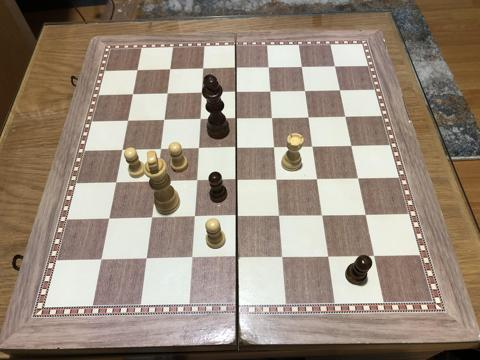xcorner: (134, 64, 147, 76), (336, 85, 348, 98), (269, 112, 281, 125), (124, 114, 137, 126), (271, 141, 283, 154), (195, 142, 207, 155), (353, 173, 366, 185), (318, 209, 330, 222), (324, 250, 336, 263), (278, 251, 291, 263), (331, 62, 343, 74), (298, 62, 310, 74), (265, 63, 277, 75), (233, 63, 245, 75), (200, 63, 212, 75), (167, 64, 179, 76), (301, 86, 313, 98), (267, 86, 279, 98), (233, 87, 245, 99), (198, 87, 210, 99), (164, 88, 176, 100), (130, 88, 142, 100), (341, 112, 353, 124), (305, 112, 317, 124), (233, 113, 245, 125), (197, 113, 209, 125), (161, 114, 173, 126), (347, 141, 359, 153), (309, 141, 321, 153), (233, 142, 245, 154), (157, 143, 169, 155), (119, 143, 131, 155), (313, 173, 325, 185), (273, 174, 285, 186), (233, 174, 245, 186), (193, 175, 205, 187), (152, 175, 164, 187), (112, 176, 124, 188), (361, 209, 373, 221), (276, 210, 288, 222), (233, 211, 245, 223), (190, 211, 202, 223), (148, 212, 160, 224), (105, 212, 117, 224), (369, 250, 381, 262), (233, 252, 245, 264), (188, 252, 200, 264), (142, 253, 154, 265), (97, 253, 109, 265)
